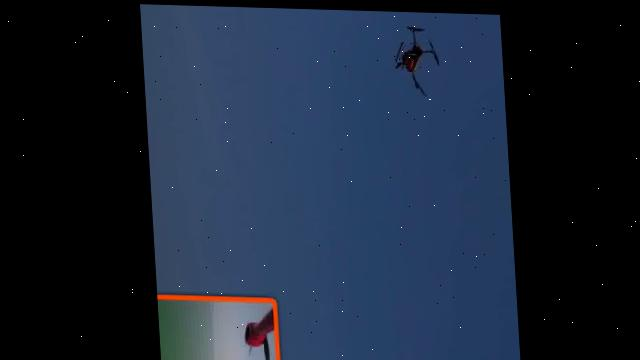drone: (383, 17, 445, 94)
